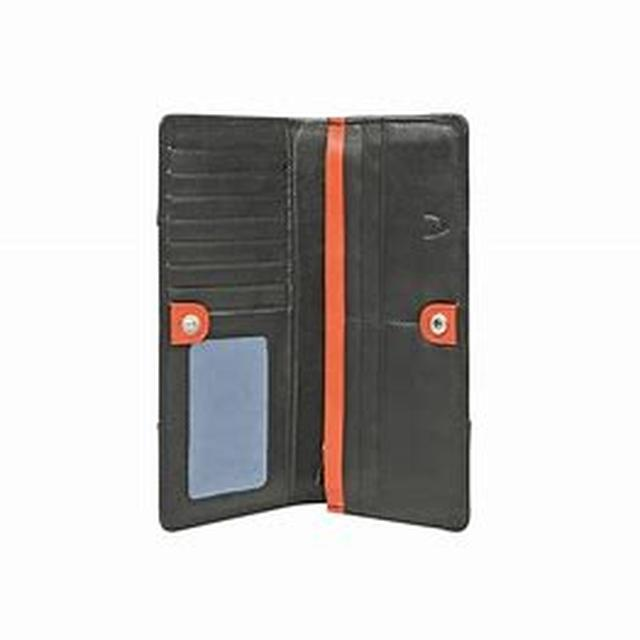wallet: (75, 56, 515, 560)
